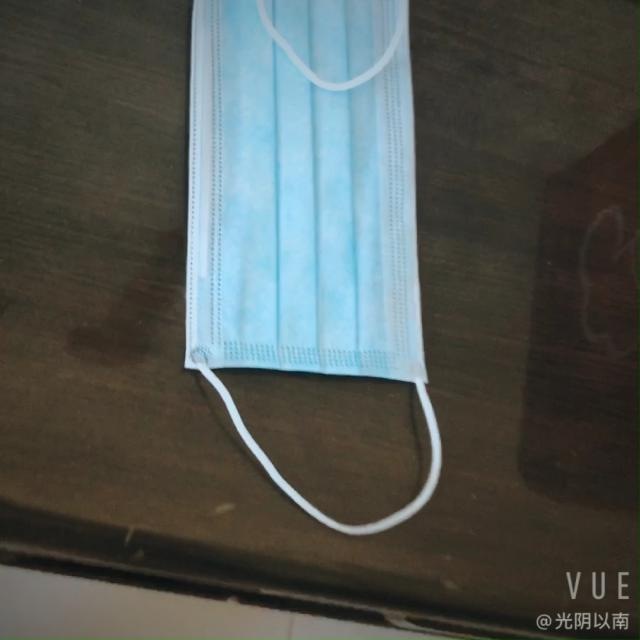non-organic waste: (177, 0, 436, 386)
